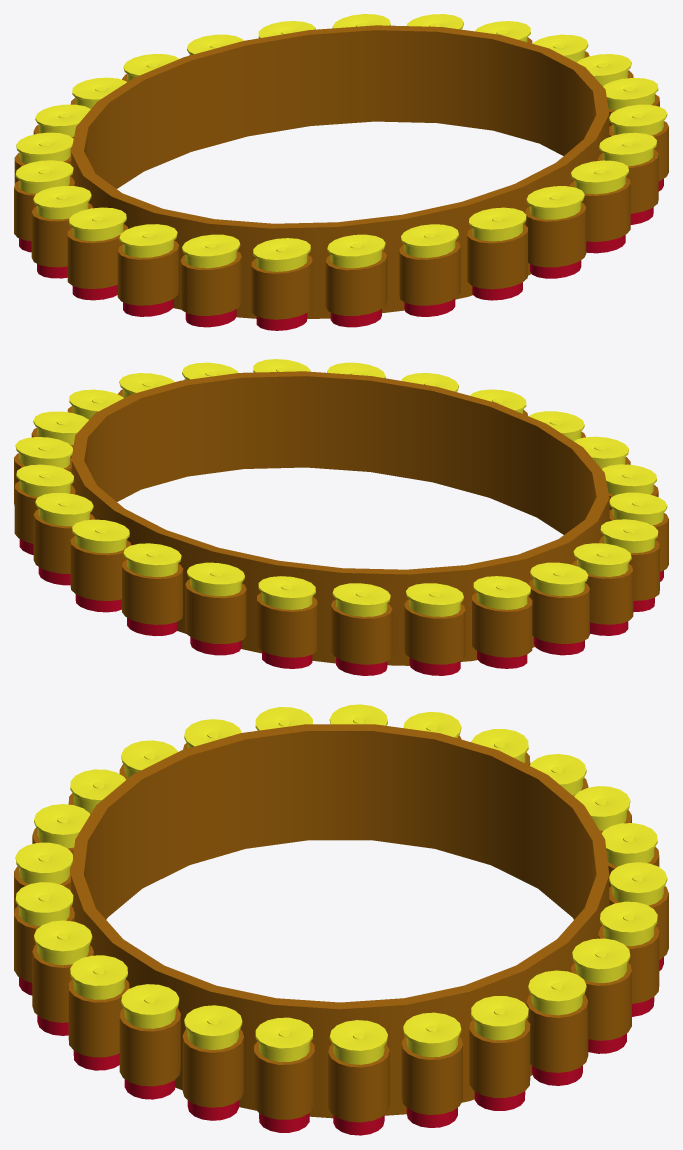
Rendered from Quick_Reload_Bandolier.fbx.
3 renders of one model, top to bottom at view 1: azimuth 30°, elevation 25°; view 2: azimuth 150°, elevation 25°; view 3: azimuth 270°, elevation 25°, orthographic. The views are drawn at different scales.
Visible parts, largest first — view 1: belt; view 2: belt; view 3: belt.
Part boxes in pixels (bbox=[...]): belt: bbox=[14, 14, 668, 330]; belt: bbox=[14, 359, 668, 675]; belt: bbox=[14, 704, 668, 1135].
Bounding box in the file's own units: 1727 × 253 × 1373.
1 material, 1 textured.
